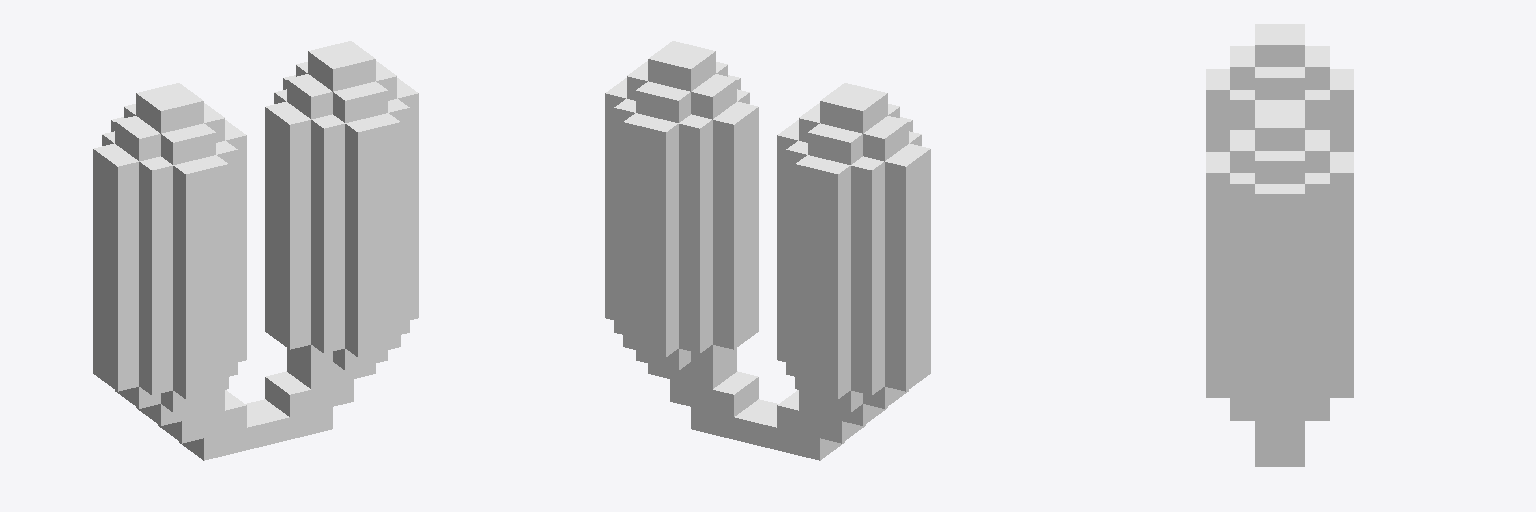
Rendered from bibelot_5.obj.
The picture shows the model from 3 angles: view 1: azimuth 30°, elevation 25°; view 2: azimuth 150°, elevation 25°; view 3: azimuth 270°, elevation 25°; orthographic projection.
Size of the model in its own units: 14 by 16 by 6.